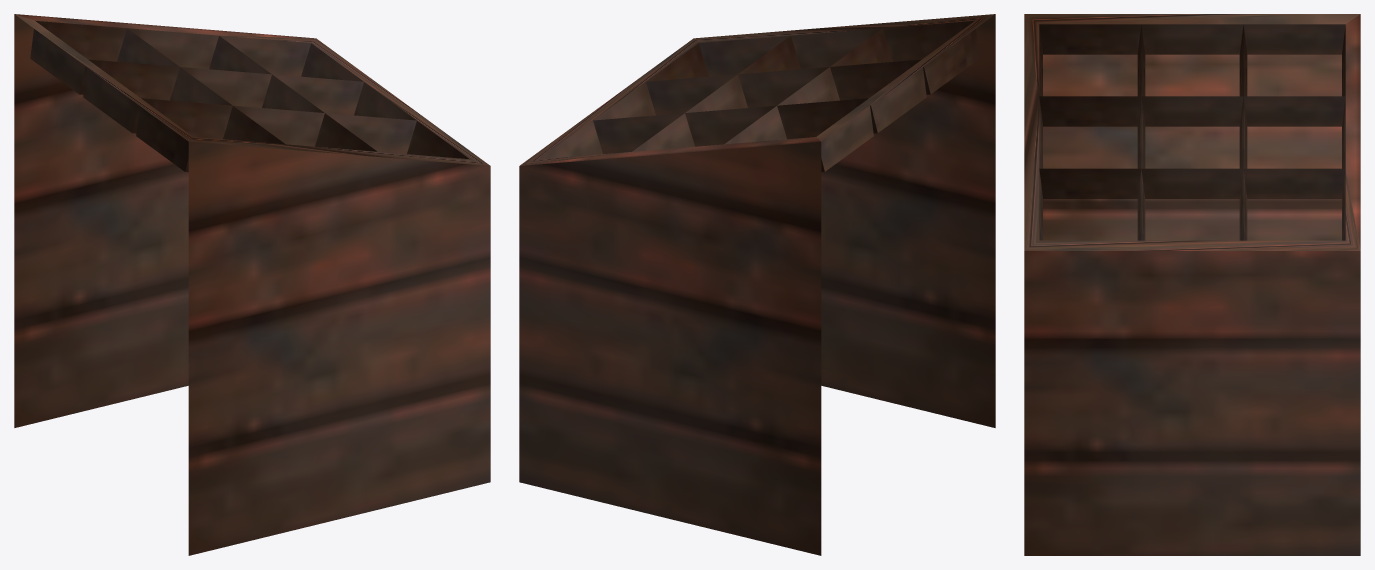
File: AggShalf.fbx
The picture shows the model from 3 angles, left to right: view 1: azimuth 30°, elevation 25°; view 2: azimuth 150°, elevation 25°; view 3: azimuth 270°, elevation 25°; orthographic projection. The views are drawn at different scales.
Visible parts, largest first — view 1: Shalf; view 2: Shalf; view 3: Shalf.
Part boxes in pixels (x1,y1,x2,y2): Shalf: (14,14,490,555); Shalf: (519,14,995,555); Shalf: (1024,14,1360,555).
Bounding box in the file's own units: 200 × 262 × 200.
